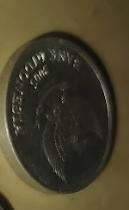coin_100_e1999: (4, 26, 121, 195)
